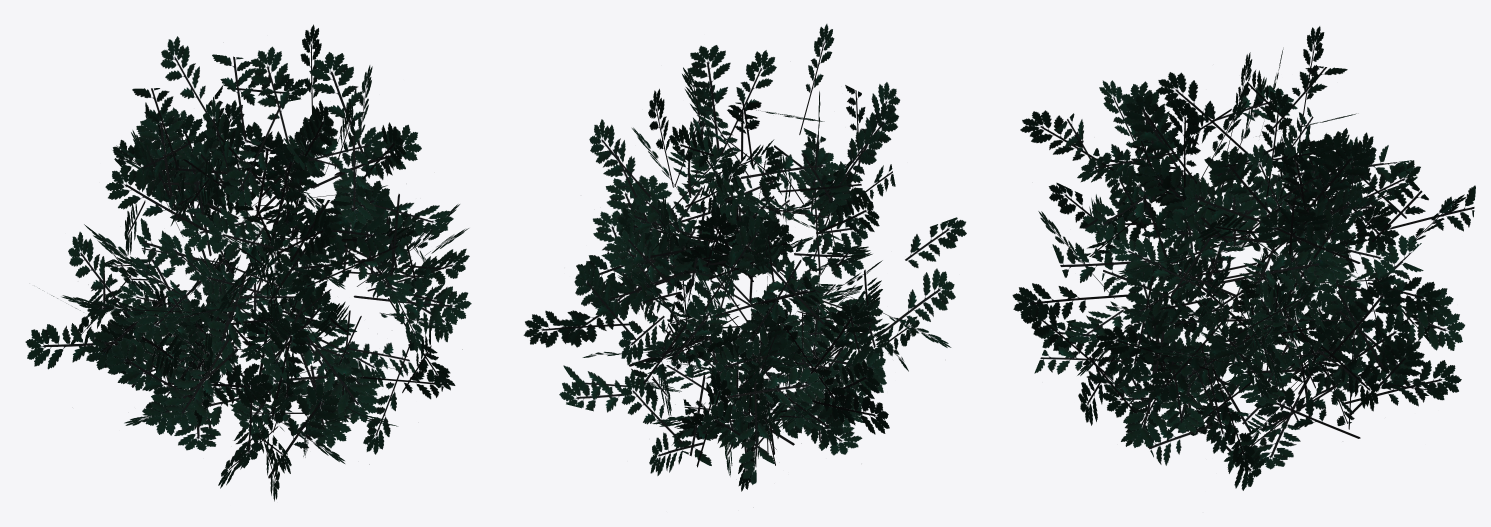
File: sm_bush_1.glb
3 views of the same model, side by side, from view 1: azimuth 30°, elevation 25°; view 2: azimuth 150°, elevation 25°; view 3: azimuth 270°, elevation 25° (orthographic). The views are drawn at different scales.
Visible parts, largest first — view 1: sm_bush_1_00; view 2: sm_bush_1_00; view 3: sm_bush_1_00.
Boxes of the visible parts, x1,y1,x2,y2 form: sm_bush_1_00: (25,24,471,501); sm_bush_1_00: (523,24,966,491); sm_bush_1_00: (1012,26,1475,490).
Size of the model in its own units: 1.27 by 1.33 by 1.3.
Materials: 1 (1 with a texture image).
